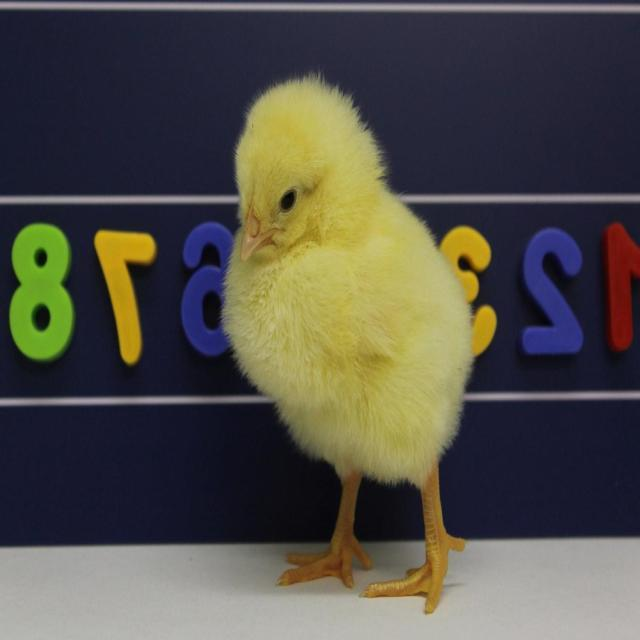poussin: (223, 69, 470, 596)
